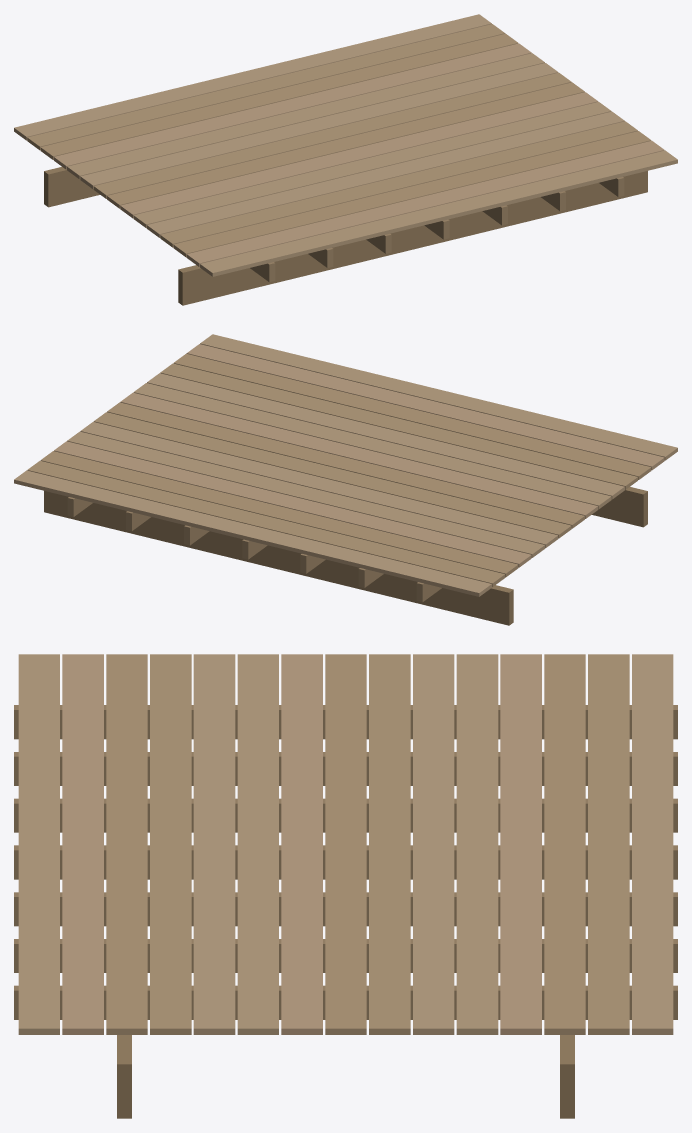
3 renders of one model, top to bottom at view 1: azimuth 30°, elevation 25°; view 2: azimuth 150°, elevation 25°; view 3: azimuth 270°, elevation 25°, orthographic. The views are drawn at different scales.
Parts seen in each view (by area): view 1: Sleeper_01; view 2: Sleeper_01; view 3: Sleeper_01.
Part boxes in pixels (x1=…): Sleeper_01: x1=14, y1=14, x2=677, y2=305; Sleeper_01: x1=14, y1=334, x2=677, y2=625; Sleeper_01: x1=14, y1=654, x2=677, y2=1118.
Bounding box in the file's own units: 4.88 × 0.5459 × 3.66.
1 material, 1 textured.
